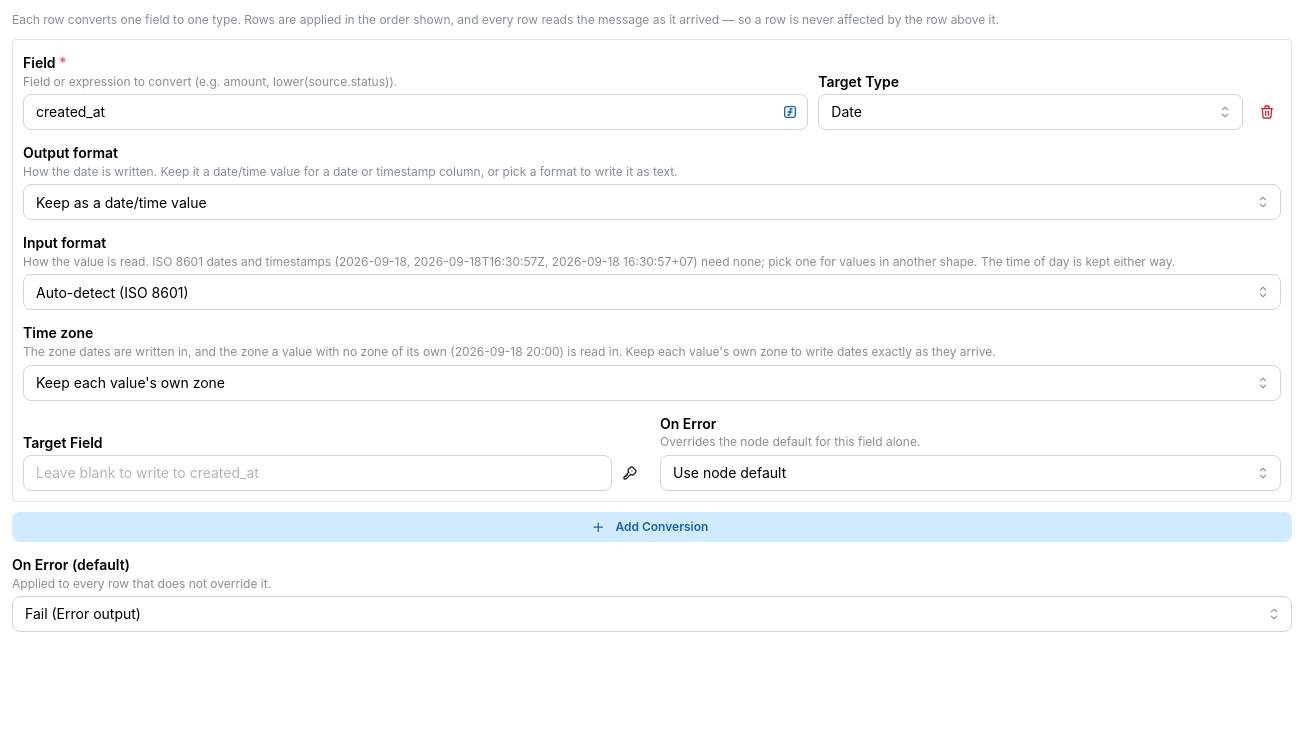
Test: data_conversion date formats › shows each format with the letter codes it corresponds to
This screenshot has width=1304, height=732.
Click the dropdown labelled "Output format": (652, 202) [23, 184, 1281, 220]
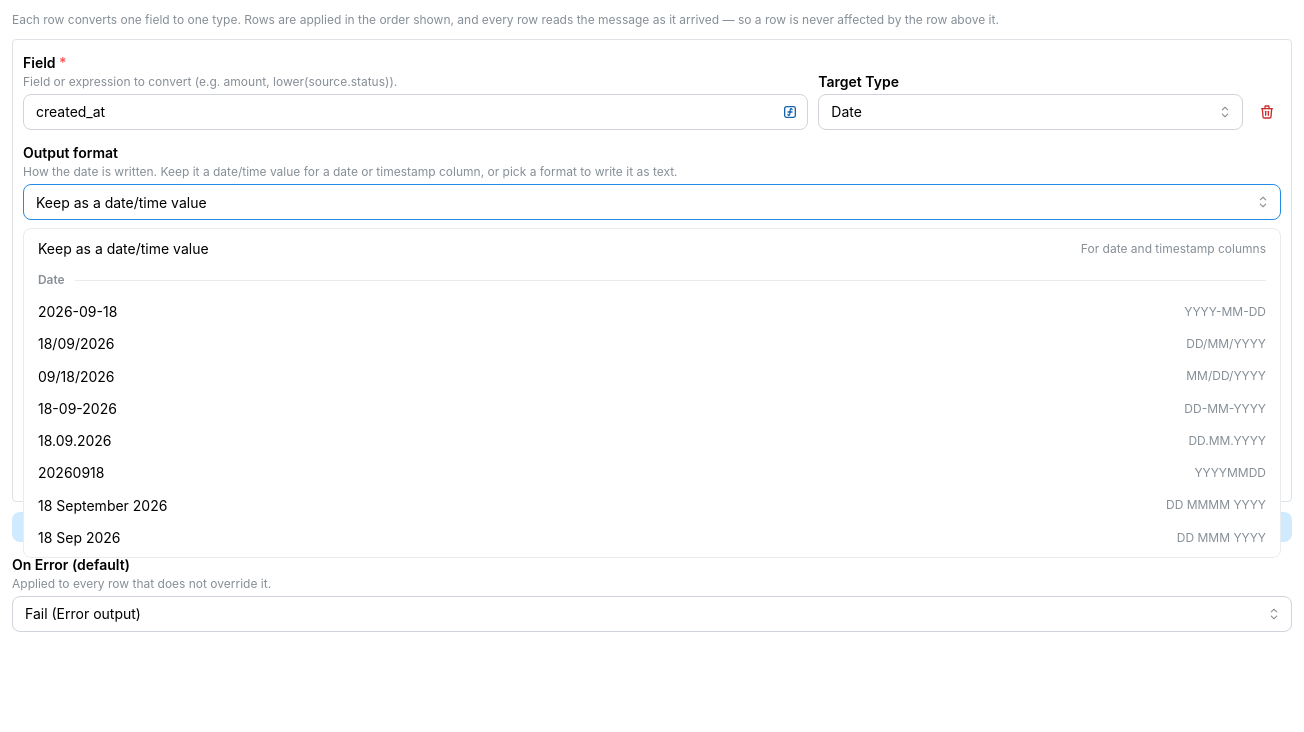
Expected: the option "18 September 2026 DD MMMM YYYY" is shown, [38, 497, 1266, 514]
